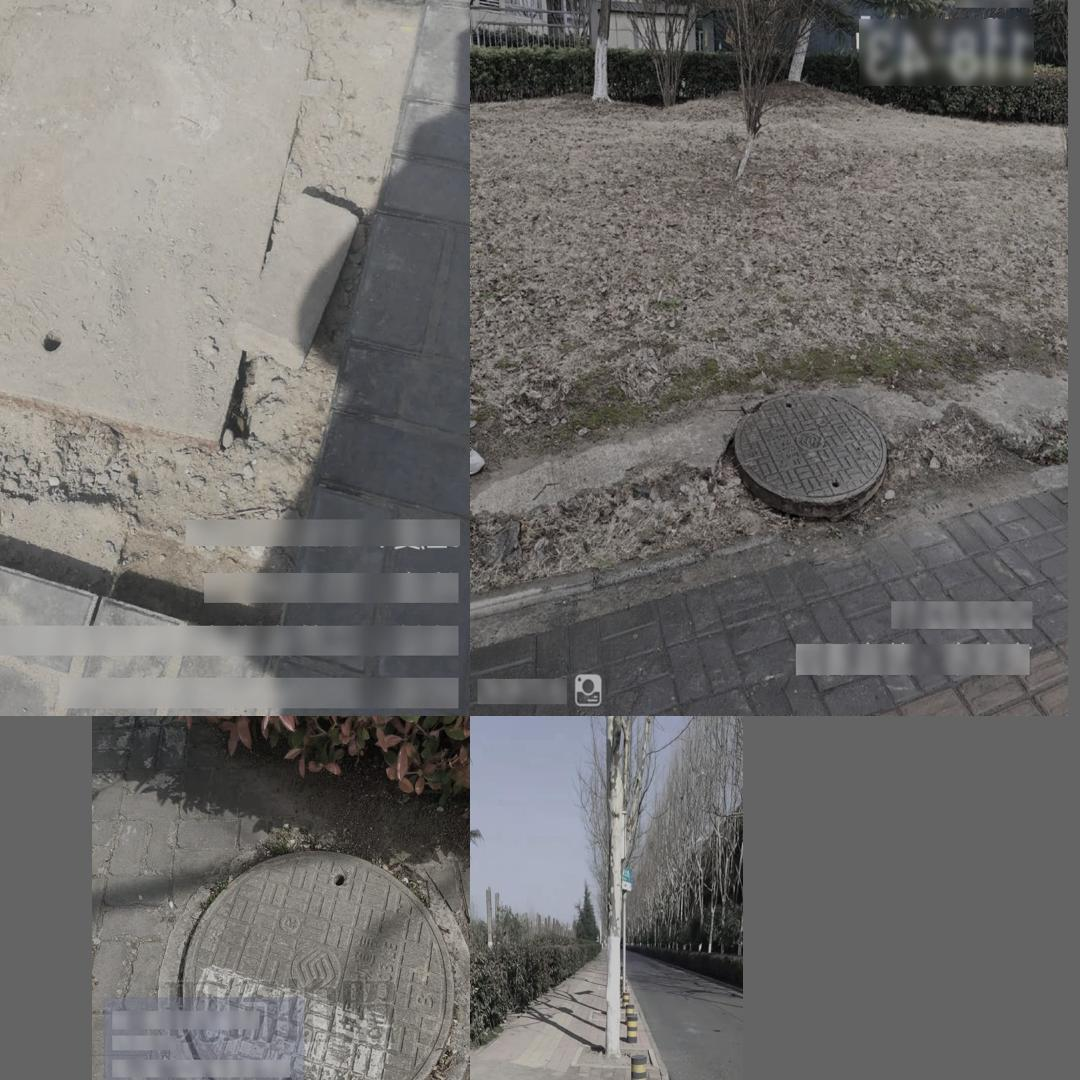circle: (0, 0, 423, 549), (173, 835, 463, 1080), (726, 387, 890, 517)
